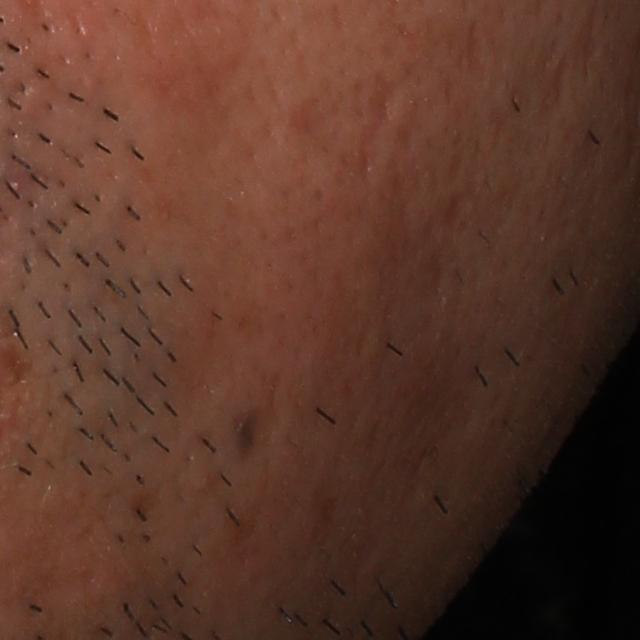atrophic_scar: (466, 23, 488, 87), (444, 192, 468, 230)
nevus: (233, 407, 262, 460)
